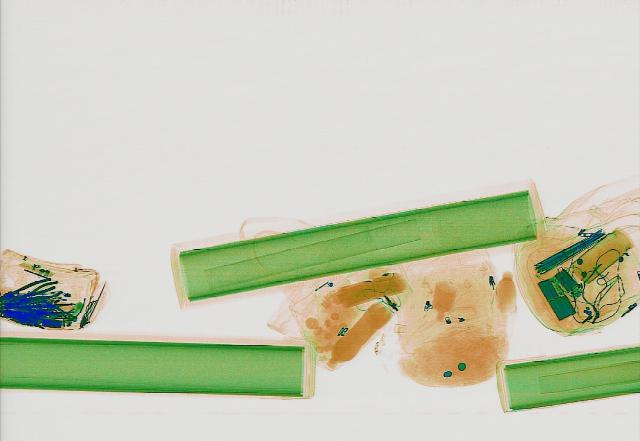Pliers: (5, 279, 59, 304)
